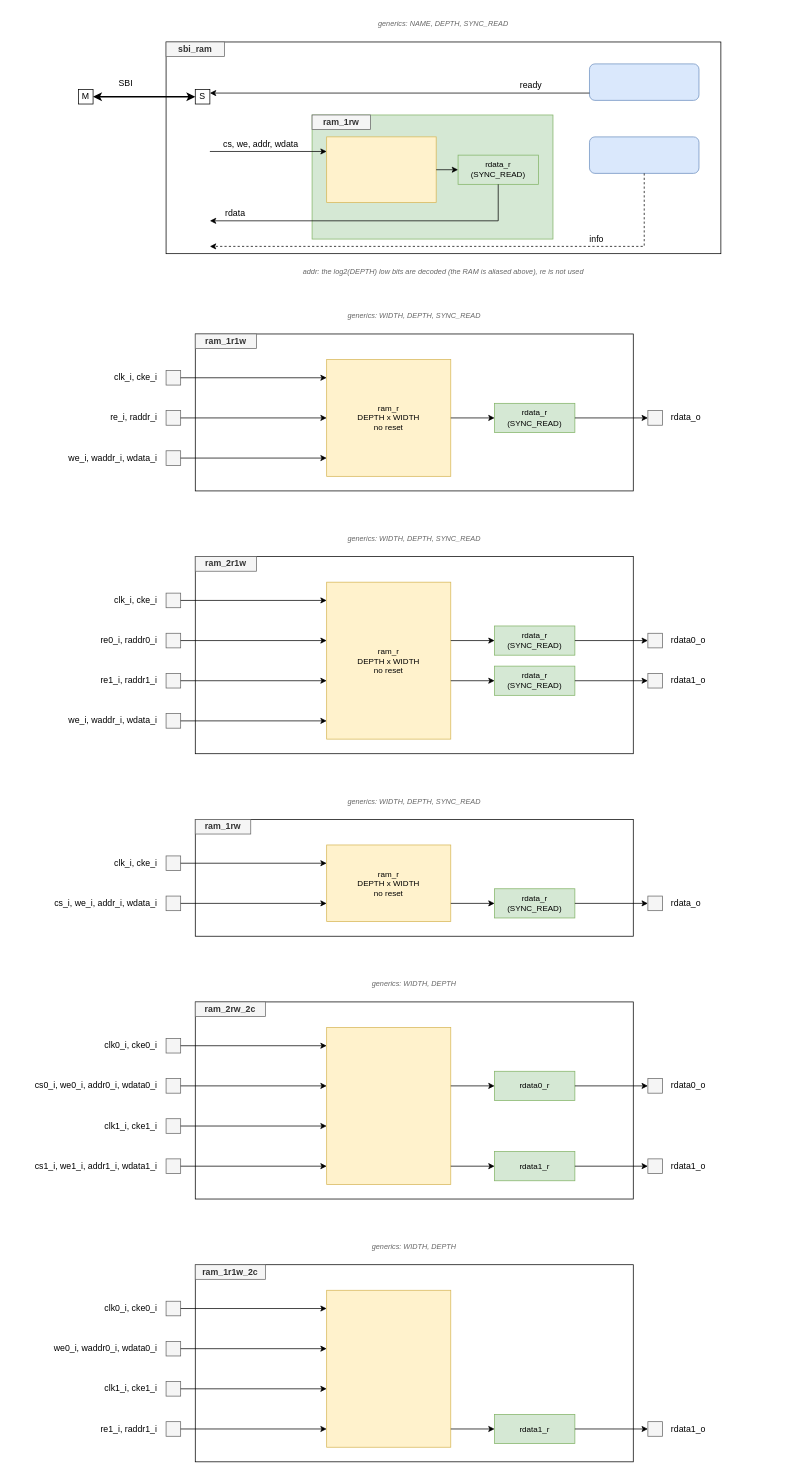
This 806x1475 diagram has some shape labels left out. Here are the shapes that lost their labels. From the top down, the centre of each, then its label:
point 644,81: ready = cs, or ready_r (SYNC_READ)
point 381,169: ram_r 2**log2(DEPTH) words of the SBI data width no reset
point 644,154: info.name = NAME or "RAM<DEPTH>B"
point 388,1105: ram_r DEPTH x WIDTH no reset port 0 on clk0_i port 1 on clk1_i
point 388,1368: ram_r DEPTH x WIDTH no reset written on clk0_i read on clk1_i
